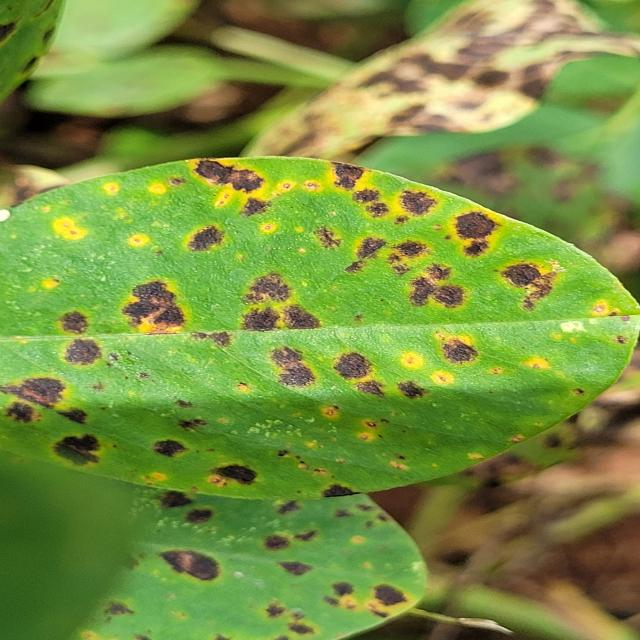Ground nut_tikka leaf spot: (1, 148, 639, 504)
